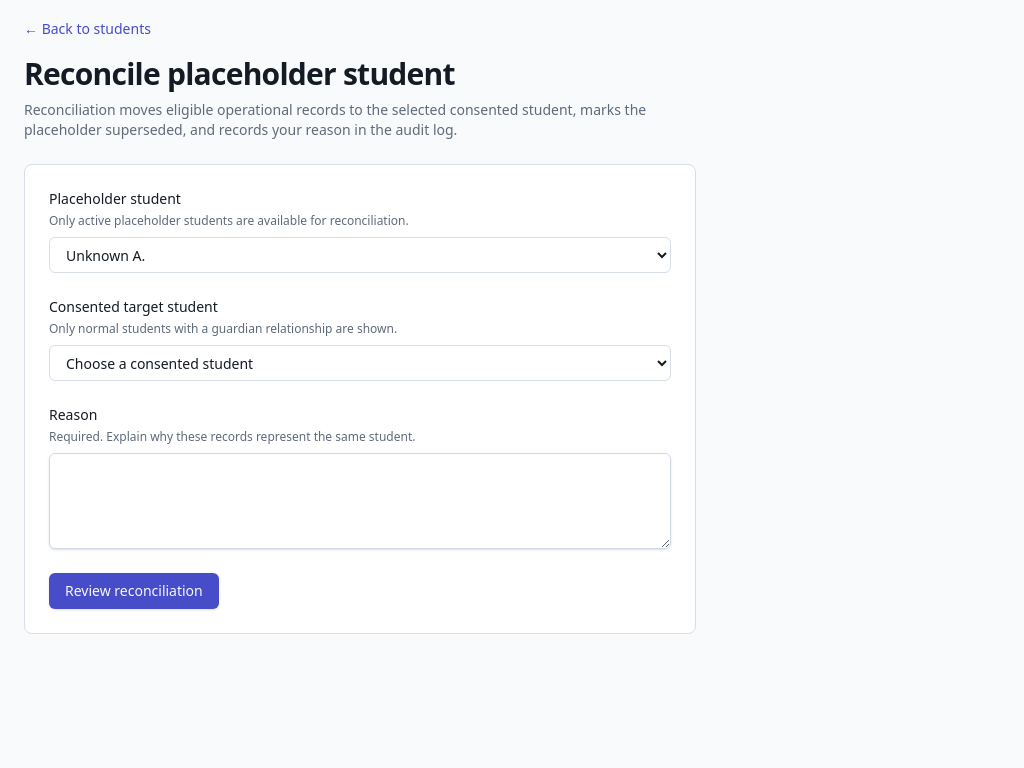
Test case: placeholder workflows › confirms an audited reconciliation and sends only selected opaque identifiers
The width and height of the screenshot is (1024, 768).
Expected: the dropdown labelled "Placeholder student" shows "Unknown A.", [49,237,671,273]
Step 1. Select "Riley Stone" in the dropdown labelled "Consented target student" → (360, 363), box [49,345,671,381]
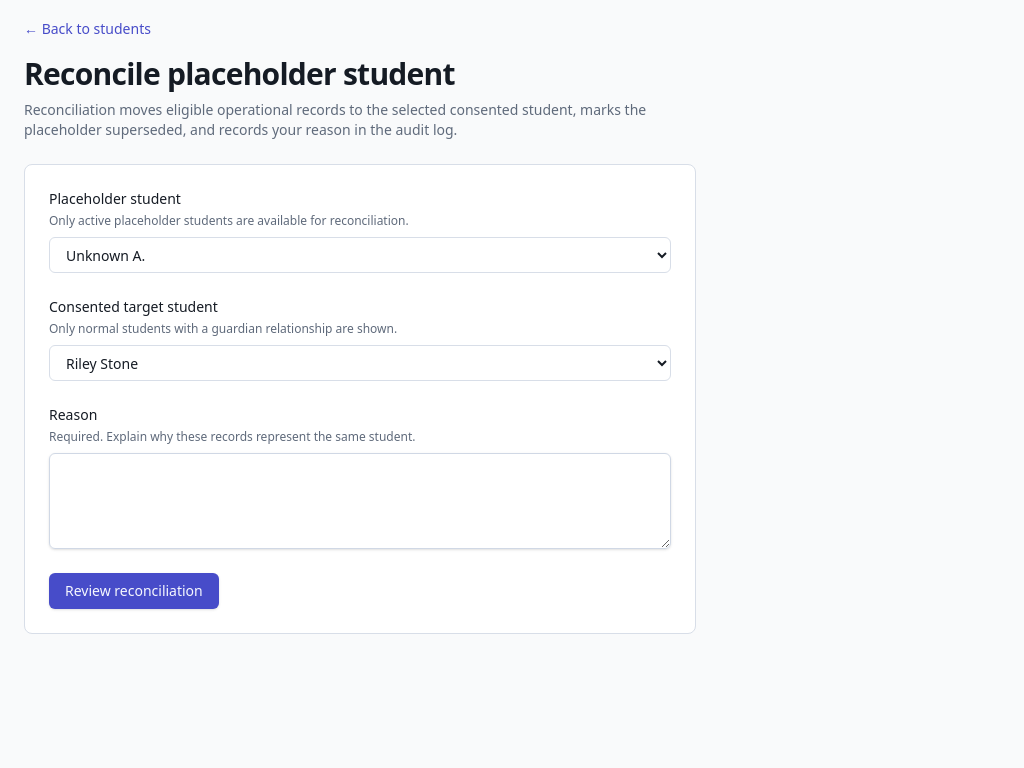
Step 2. Type "Guardian registration matches the placeholder." into the text box labelled "Reason" → (360, 501), box [49,453,671,549]
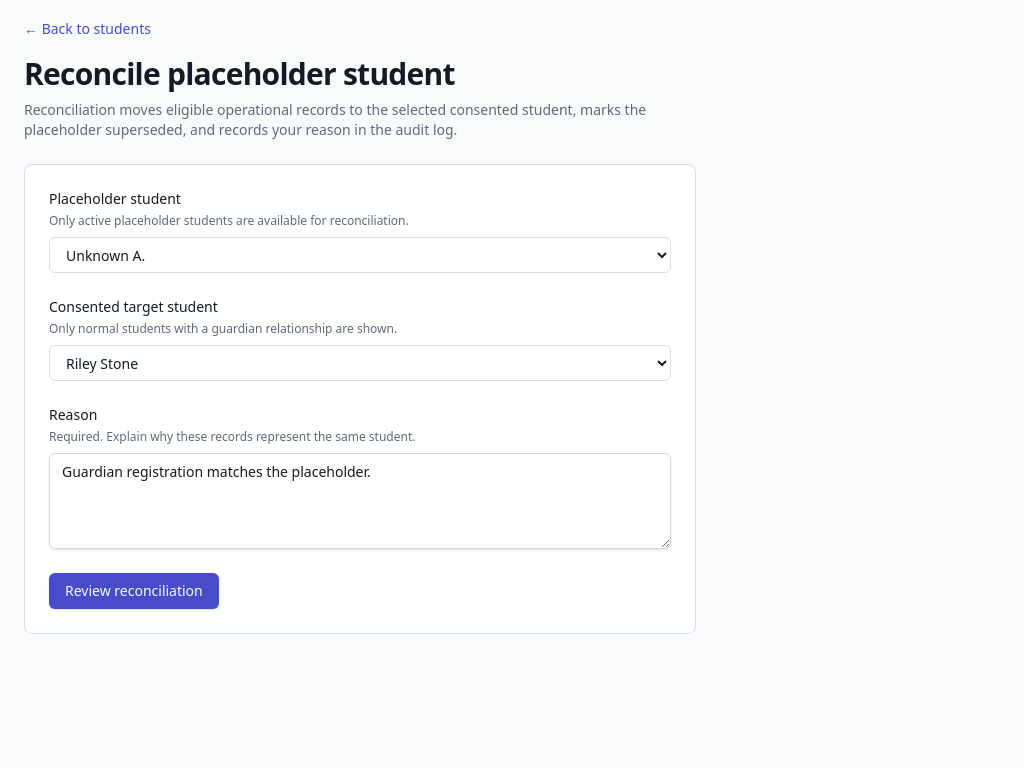
Step 3. Click the button "Review reconciliation" → (134, 591), box [49,573,219,609]
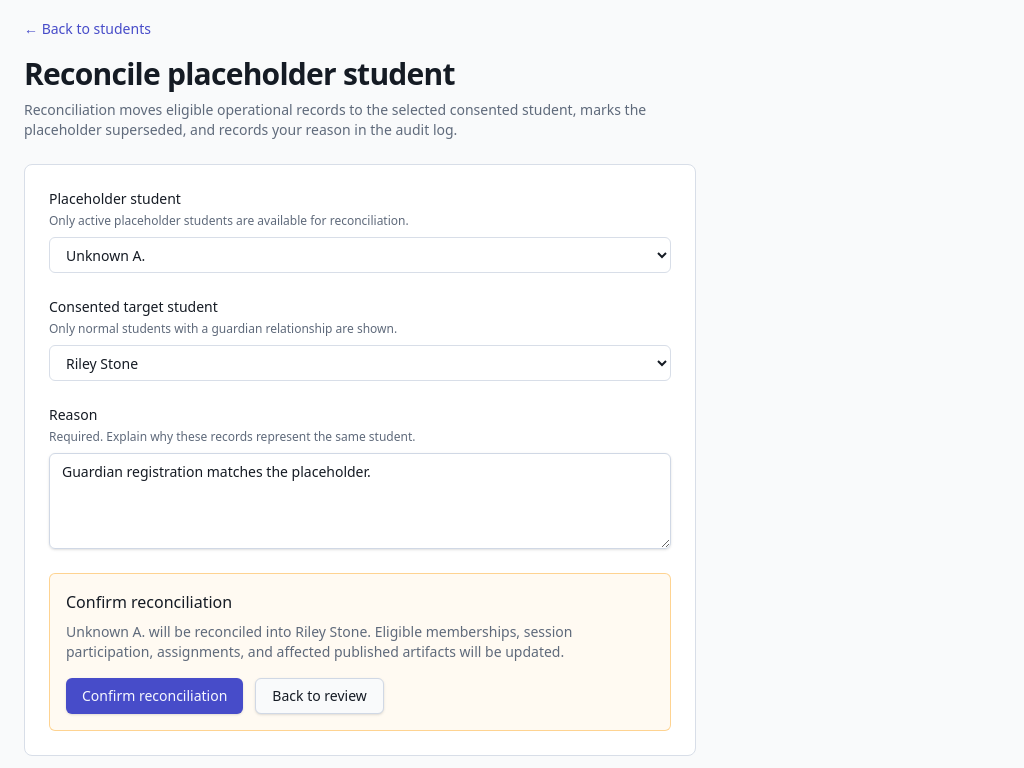
Now the heading "Confirm reconciliation" is shown, box [66,591,232,613]
Now the text "Unknown A. will be reconciled into Riley Stone" is shown, box [66,622,572,661]
Step 4. Click the button "Confirm reconciliation" → (155, 696), box [66,678,243,714]
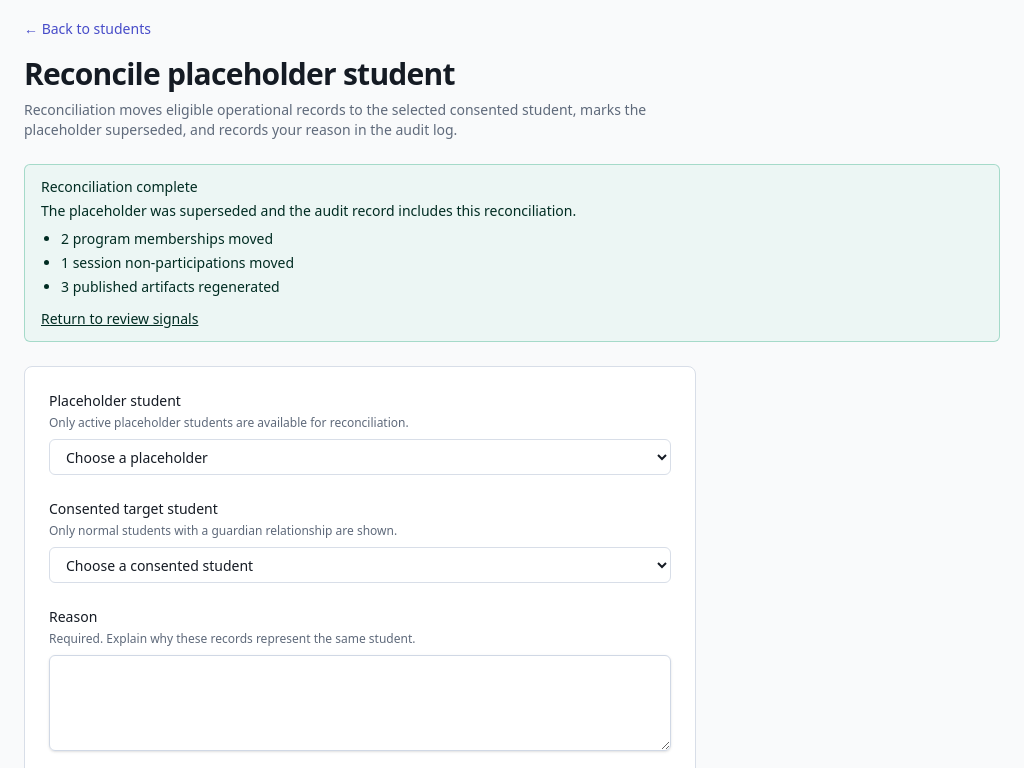
Now the message shows "Reconciliation complete", box [41,177,198,196]
